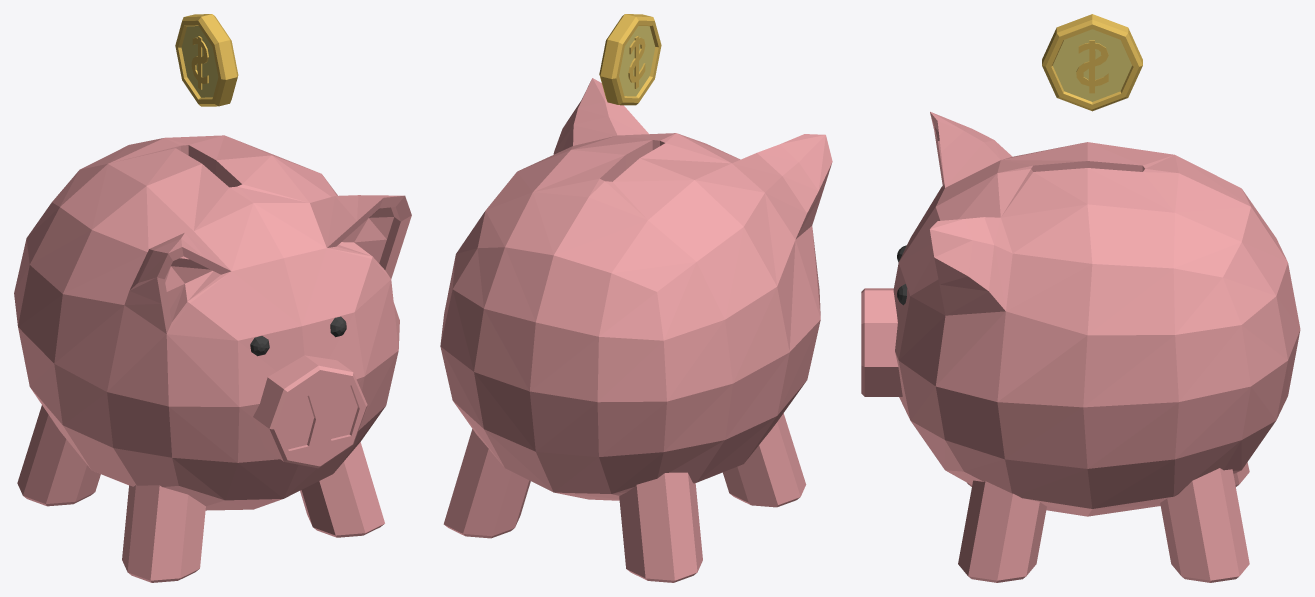
Rendered from bank.glb.
3 renders of one model, left to right at view 1: azimuth 30°, elevation 25°; view 2: azimuth 150°, elevation 25°; view 3: azimuth 270°, elevation 25°, orthographic. The views are drawn at different scales.
Parts seen in each view (by area): view 1: Node, Coin_Cylinder; view 2: Node, Coin_Cylinder; view 3: Node, Coin_Cylinder.
Boxes of the visible parts, bbox=[...] form: Node: bbox=[14, 135, 411, 582]; Coin_Cylinder: bbox=[175, 14, 238, 106]; Node: bbox=[440, 78, 832, 582]; Coin_Cylinder: bbox=[599, 14, 661, 105]; Node: bbox=[861, 111, 1300, 582]; Coin_Cylinder: bbox=[1042, 14, 1142, 111].
Bounding box in the file's own units: 0.8785 × 1.33 × 1.04.
